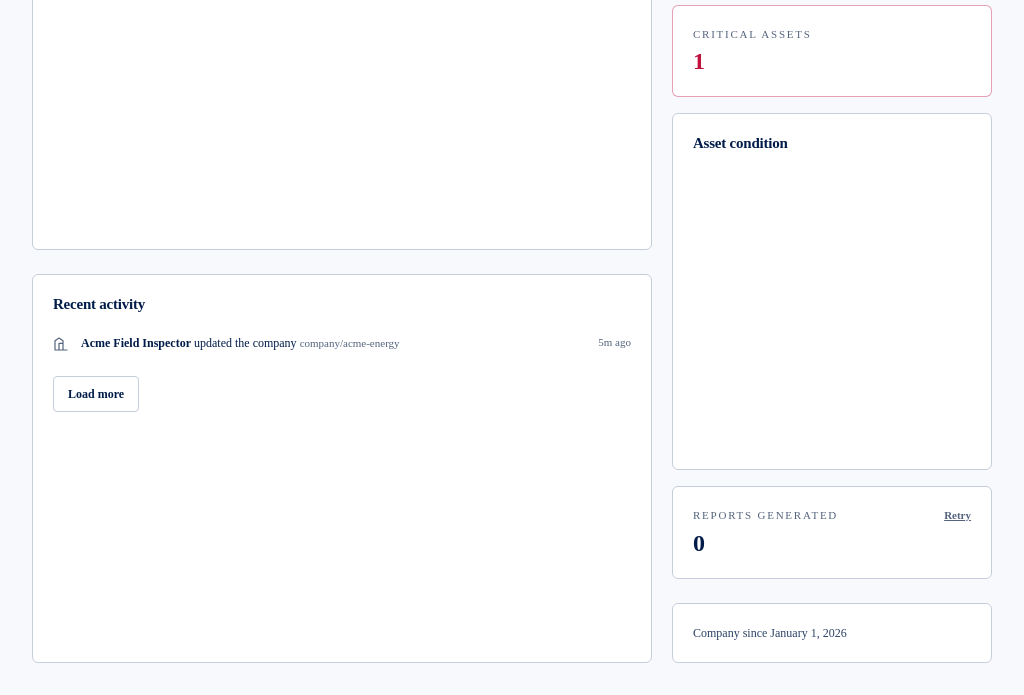
Test: dashboard page › loads more activity via cursor pagination and appends without duplicating
(page scrolled)
Click the button "Load more" at (96, 394), box [53,376,139,412]
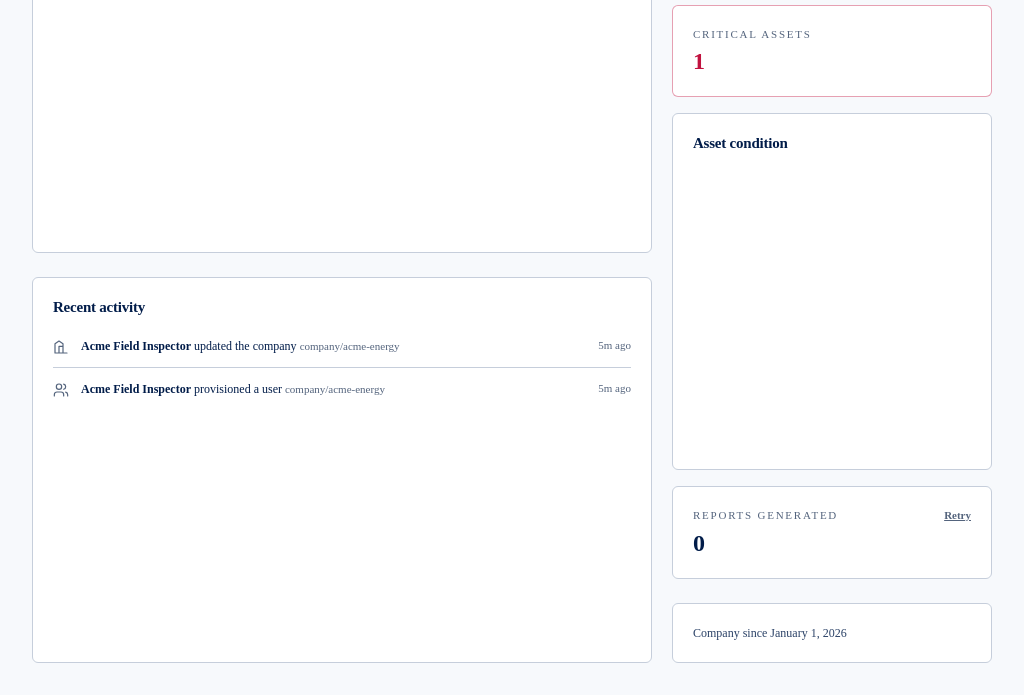
Result: the button "Load more" is gone
